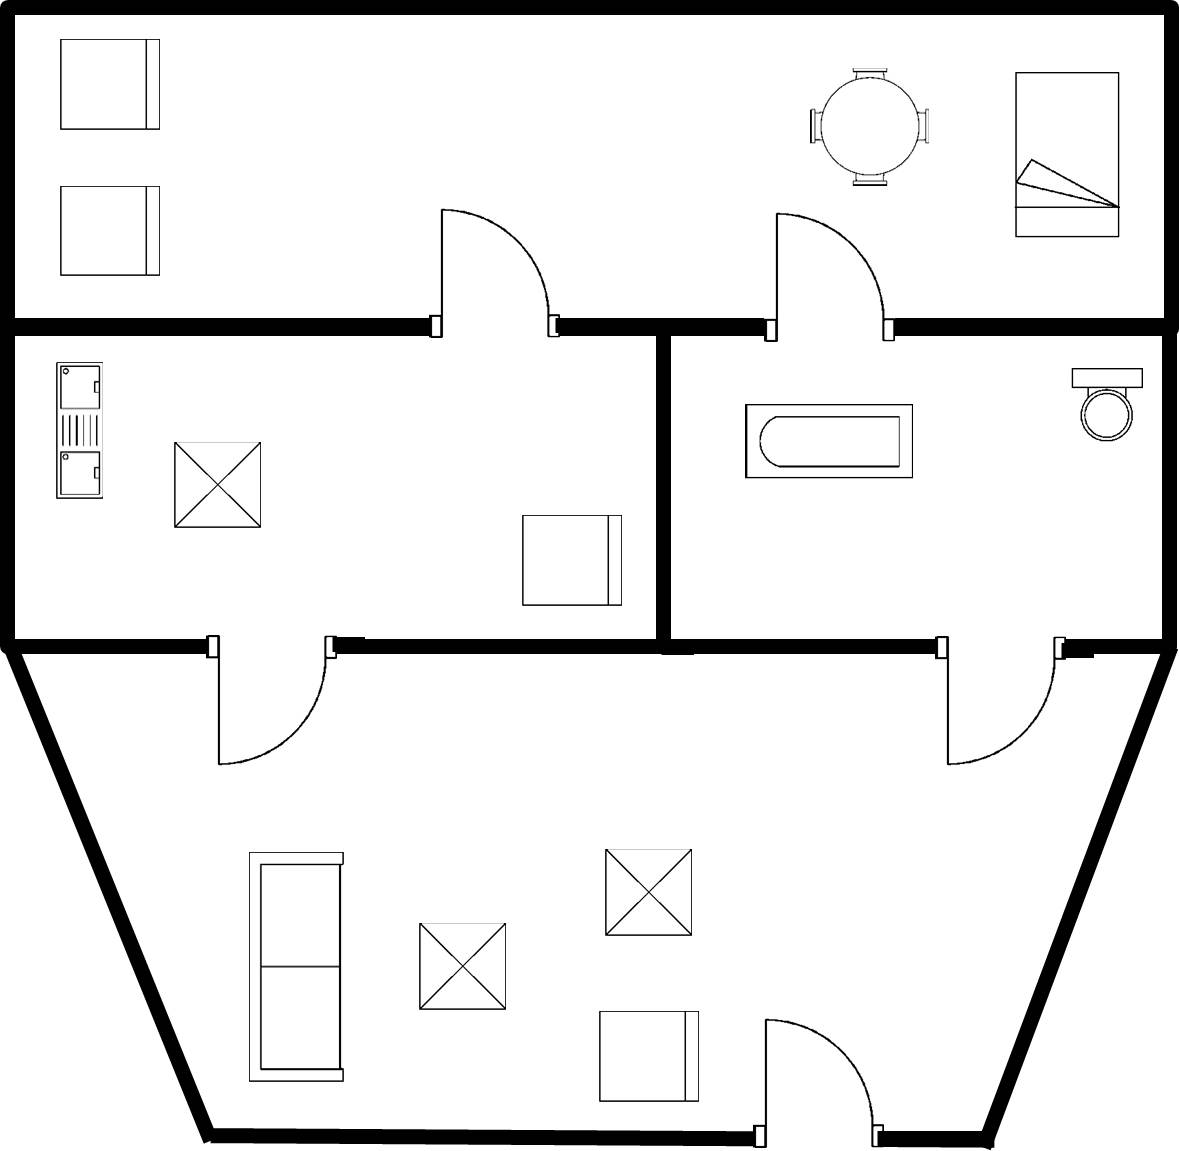bed: (1002, 64, 1130, 248)
coffee_table: (593, 839, 704, 947), (408, 914, 516, 1020), (168, 437, 268, 538)
large_sink: (1062, 364, 1149, 451)
large_sofa: (238, 843, 355, 1094), (514, 505, 629, 619)
round_table: (805, 59, 939, 196)
small_sofa: (587, 1002, 713, 1114), (51, 175, 170, 291), (52, 31, 170, 140)
tub: (738, 396, 921, 487)
